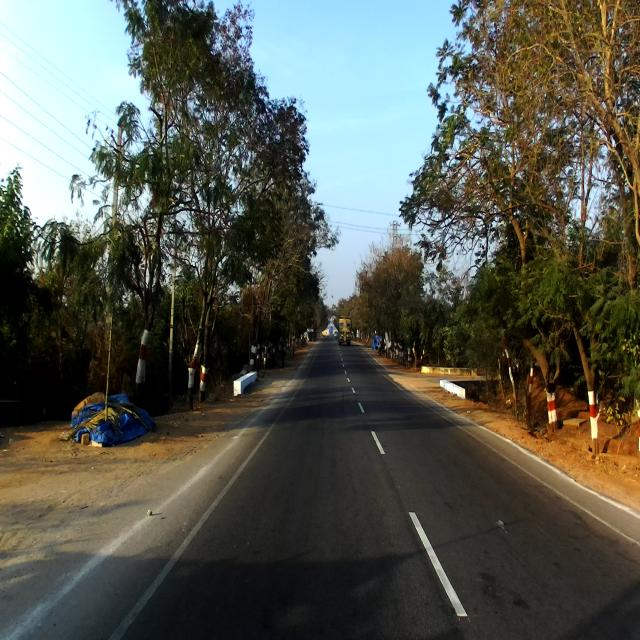tree ahead at: (534, 341, 562, 434), (186, 305, 211, 404), (576, 337, 600, 436), (137, 315, 154, 416)
